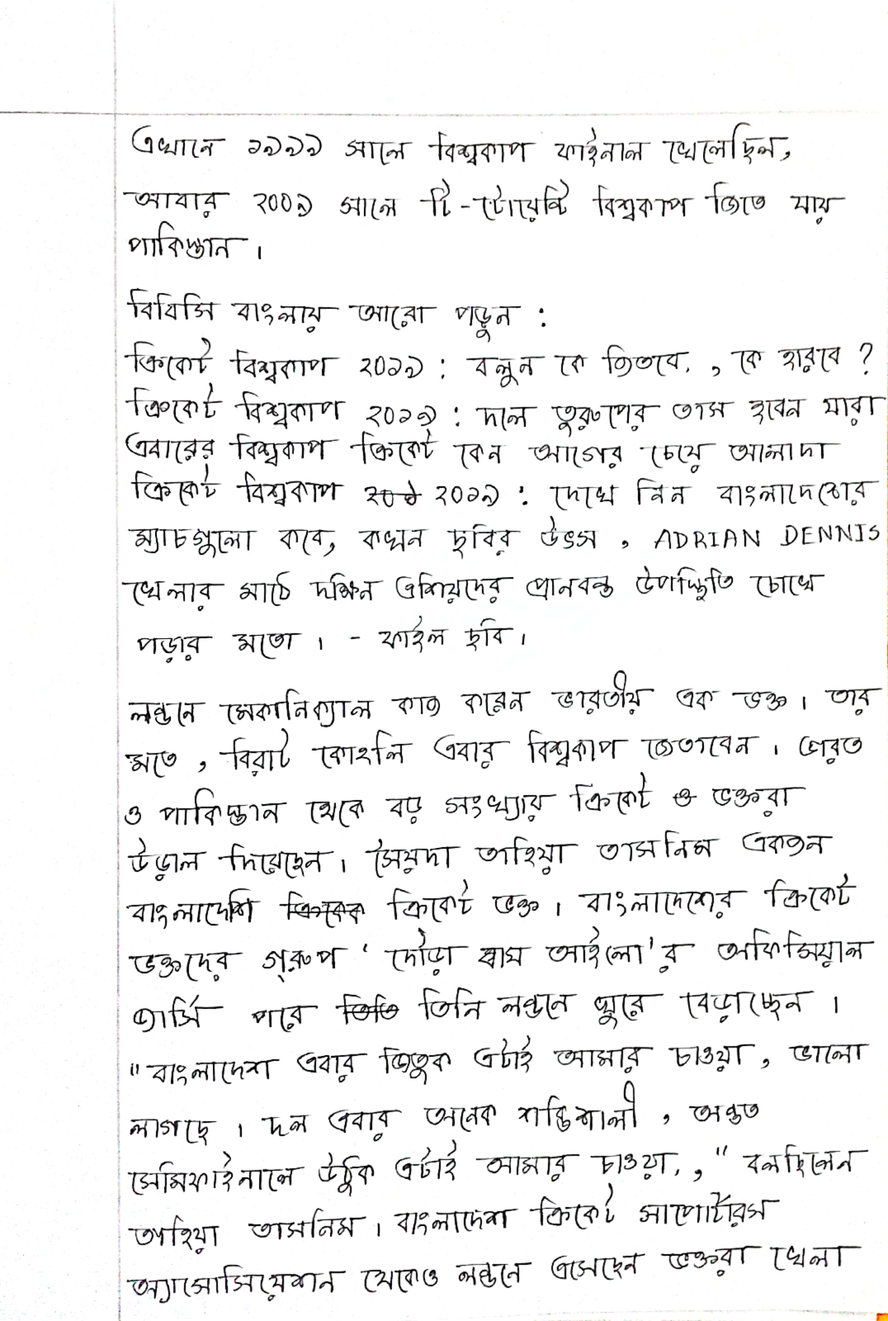line: (121, 1228, 886, 1320), (107, 1178, 829, 1262), (108, 1136, 888, 1206), (118, 1029, 877, 1093), (110, 666, 888, 728), (117, 1077, 770, 1147), (115, 773, 832, 836), (121, 925, 878, 984), (119, 872, 870, 931), (114, 825, 866, 881), (121, 379, 888, 431), (125, 513, 888, 565), (112, 465, 888, 516), (111, 557, 829, 612), (111, 729, 870, 781), (125, 983, 851, 1037), (114, 332, 875, 383), (121, 177, 857, 228), (121, 117, 809, 169), (122, 425, 845, 473), (115, 279, 552, 345), (118, 614, 570, 665), (114, 216, 281, 272)
